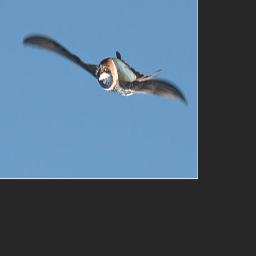Swallow: (22, 36, 187, 112)
